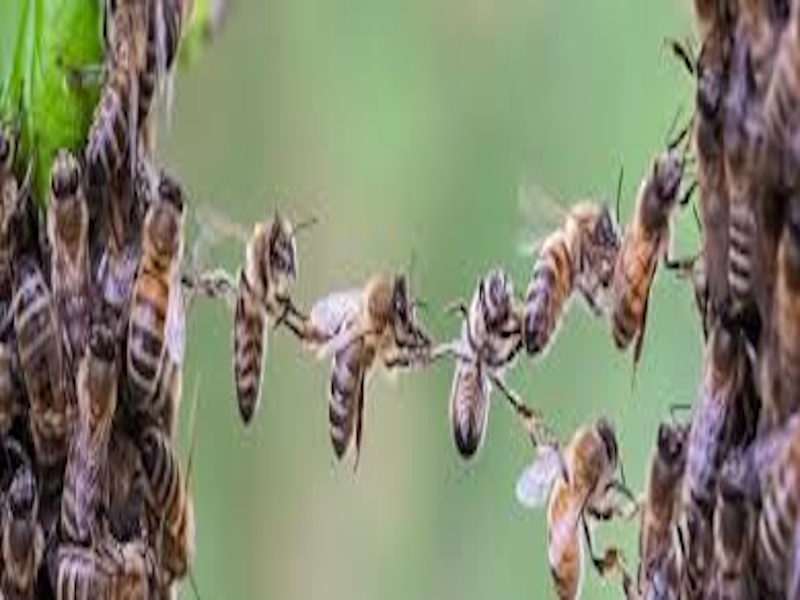abeja: (201, 194, 334, 427), (296, 267, 430, 464), (514, 405, 645, 595), (600, 129, 697, 377), (109, 169, 204, 399), (433, 258, 529, 484), (517, 179, 641, 347)
